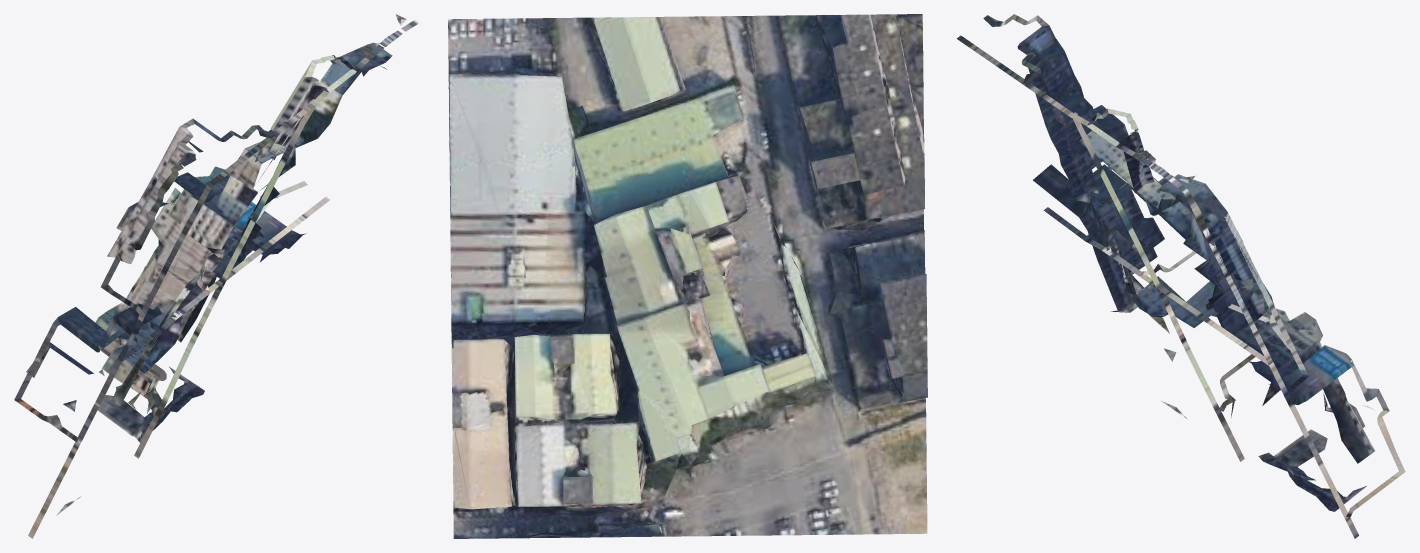
3 renders of one model, left to right at view 1: azimuth 30°, elevation 25°; view 2: azimuth 150°, elevation 25°; view 3: azimuth 270°, elevation 25°, orthographic. The views are drawn at different scales.
Bounding box in the file's own units: 155 × 148 × 144.
Materials: 2 (2 with a texture image).
